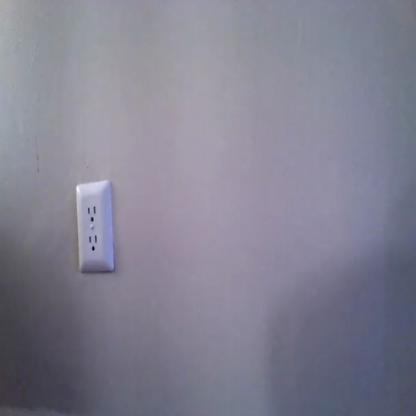OUTLET: (75, 180, 115, 274)
